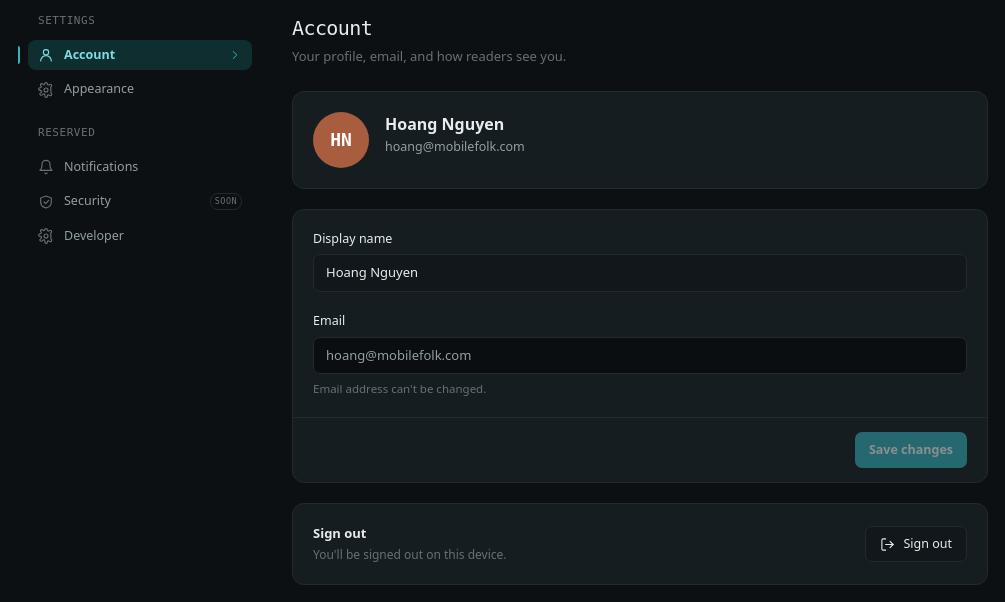
Test: account-settings S-004 — reserved settings sections › AS-011: a sibling-registered section appears in the nav (no Soon badge) and opens its own content when selected
Note: Selecting it opens its OWN registered content (not the coming-soon stub).
Click the link with test id "settings-nav-developer". click: click(81, 236)
box: left=38, top=227, right=124, bottom=244
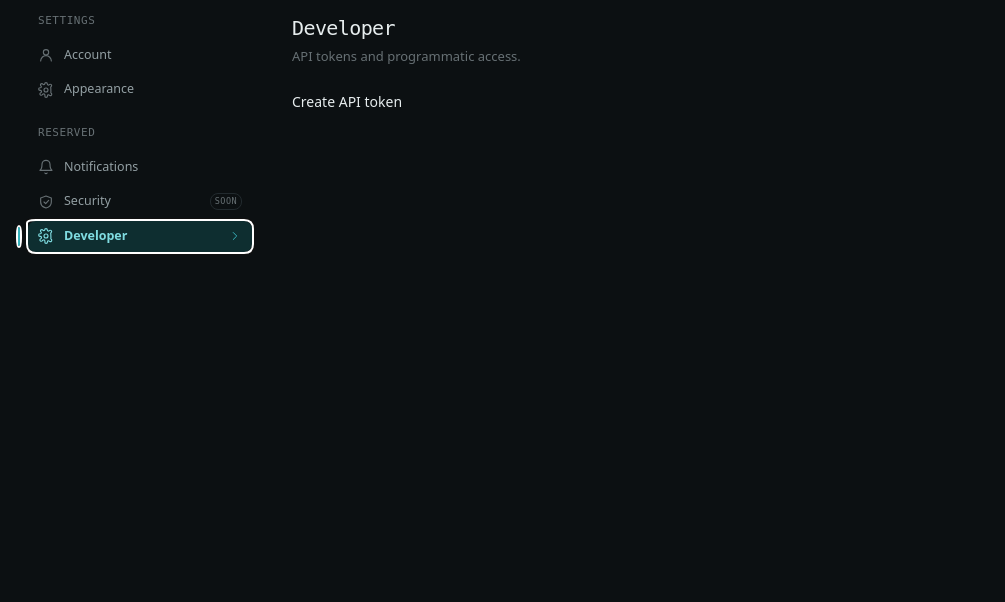
Now the text with test id "developer-owned-body" reads "Create API token", box left=292, top=92, right=402, bottom=110
